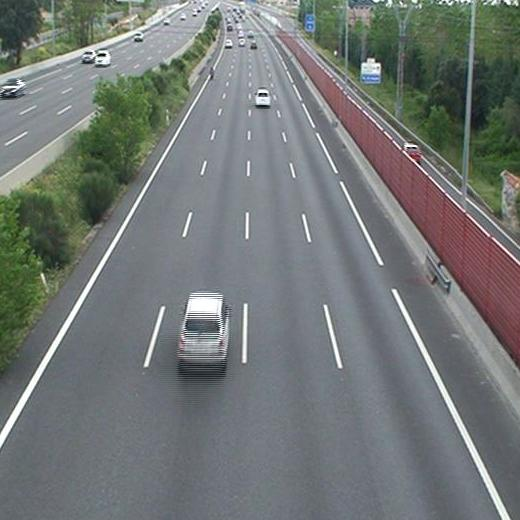car: (179, 294, 228, 369), (255, 90, 271, 106), (224, 37, 232, 48), (250, 40, 258, 50), (238, 37, 245, 48)
motorcycle: (208, 64, 216, 80)
